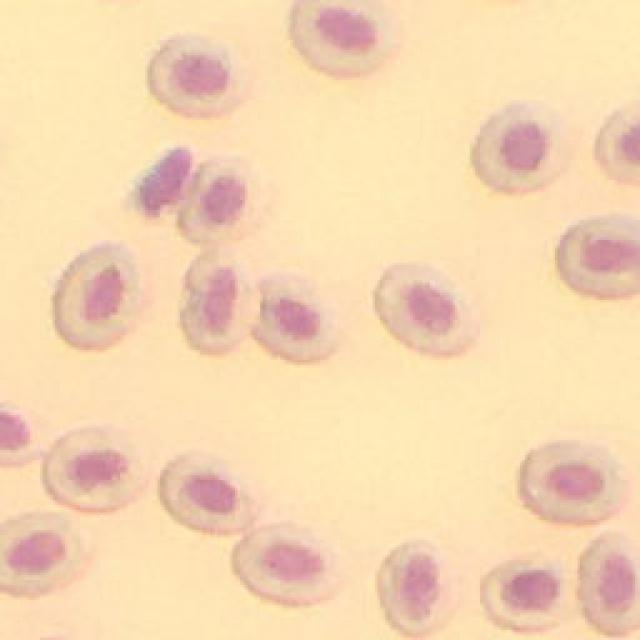RBC: (230, 521, 347, 608), (375, 263, 480, 355), (52, 242, 140, 350), (520, 442, 628, 525), (475, 102, 570, 192), (292, 0, 398, 76), (45, 430, 142, 512), (150, 35, 245, 118), (160, 455, 258, 535), (0, 512, 90, 598), (480, 551, 573, 634), (380, 542, 460, 638), (182, 252, 252, 355), (258, 272, 338, 362), (178, 158, 260, 242), (560, 218, 640, 298), (580, 535, 640, 638), (598, 103, 640, 182), (0, 402, 46, 467)
WBC: (137, 147, 194, 218)
